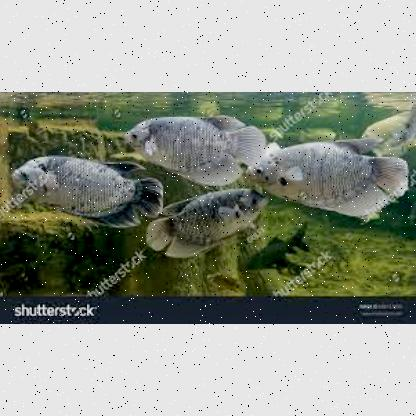gurame: (13, 152, 152, 224), (253, 138, 405, 200), (123, 112, 255, 183), (148, 188, 268, 250)
